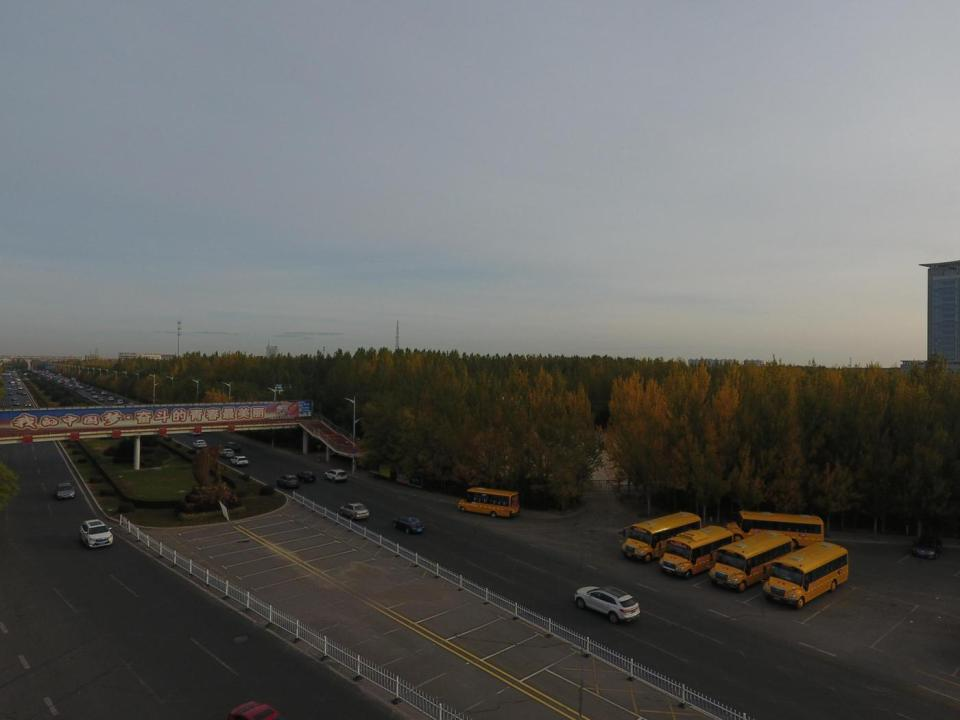bus: (762, 541, 849, 608), (708, 530, 793, 593), (656, 524, 734, 580), (620, 512, 703, 563), (725, 510, 827, 550), (458, 485, 521, 518)
car: (574, 585, 640, 623), (228, 699, 287, 720), (78, 517, 113, 548), (392, 513, 426, 535), (911, 537, 945, 558), (338, 502, 370, 520), (54, 482, 76, 502), (324, 468, 348, 484), (276, 474, 301, 489), (298, 471, 316, 484), (230, 455, 249, 466), (224, 442, 242, 453), (191, 439, 208, 448), (220, 450, 236, 458), (25, 401, 32, 407), (13, 400, 20, 406), (11, 396, 18, 402), (100, 390, 108, 395), (98, 396, 104, 402), (79, 385, 85, 391), (116, 399, 123, 404), (107, 396, 114, 401), (90, 390, 98, 394), (20, 391, 26, 396), (92, 394, 98, 399), (7, 391, 14, 395), (73, 386, 80, 390), (16, 390, 22, 394), (5, 386, 11, 390), (86, 388, 92, 392), (73, 380, 78, 384), (12, 388, 18, 391), (18, 387, 24, 390)
